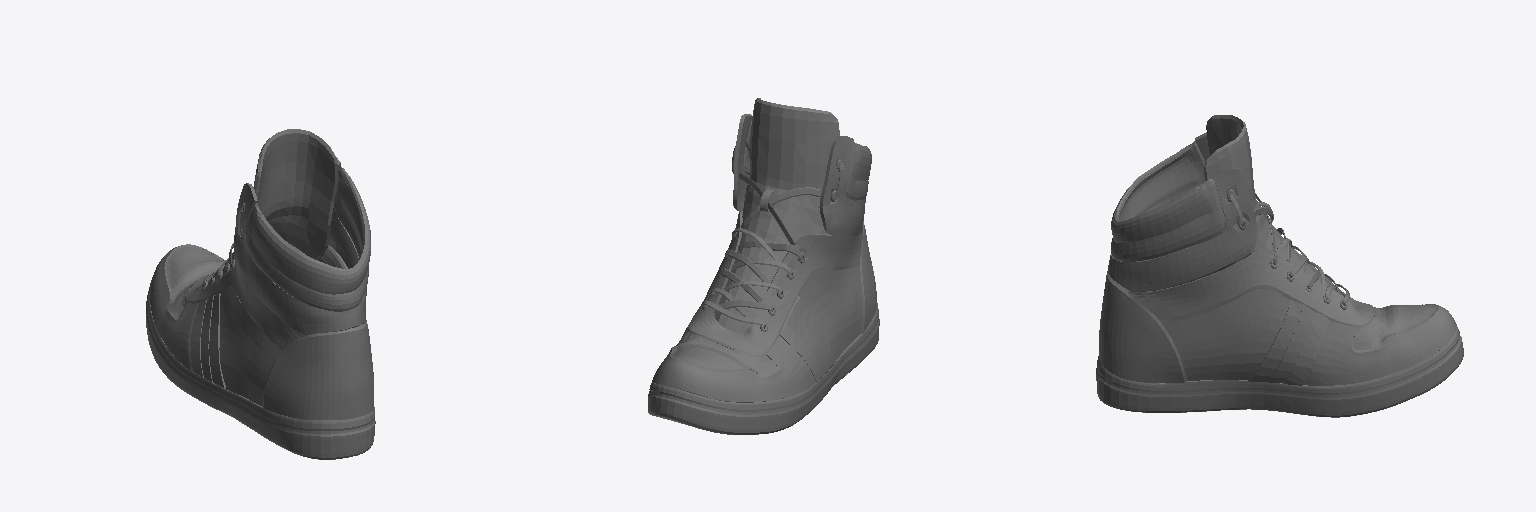
Rendered from 3DShoeLeft.obj.
3 views of the same model, side by side, from view 1: azimuth 30°, elevation 25°; view 2: azimuth 150°, elevation 25°; view 3: azimuth 270°, elevation 25° (orthographic).
Visible parts, largest first — view 1: Fleur-de-Lis_black_shoe_Mesh.003; view 2: Fleur-de-Lis_black_shoe_Mesh.003; view 3: Fleur-de-Lis_black_shoe_Mesh.003.
Part boxes in pixels (left/top/right/bottom): Fleur-de-Lis_black_shoe_Mesh.003: left=146, top=129, right=375, bottom=459; Fleur-de-Lis_black_shoe_Mesh.003: left=648, top=98, right=879, bottom=434; Fleur-de-Lis_black_shoe_Mesh.003: left=1096, top=115, right=1463, bottom=417.
Size of the model in its own units: 4.81 by 10.84 by 13.23.